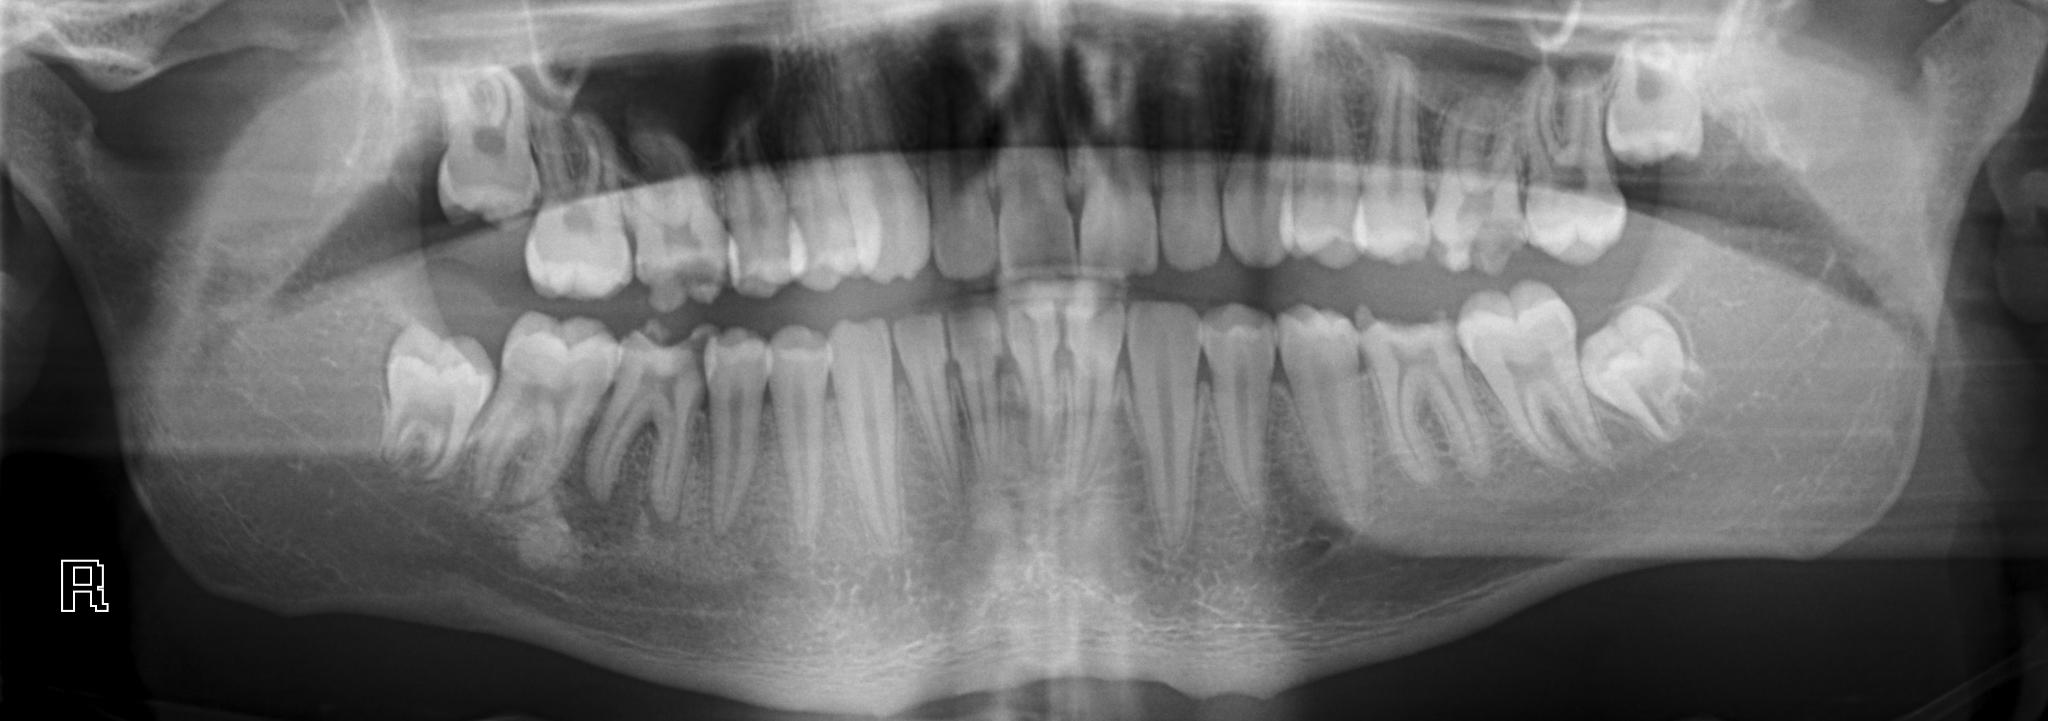Fillings: (61, 559, 101, 611)
